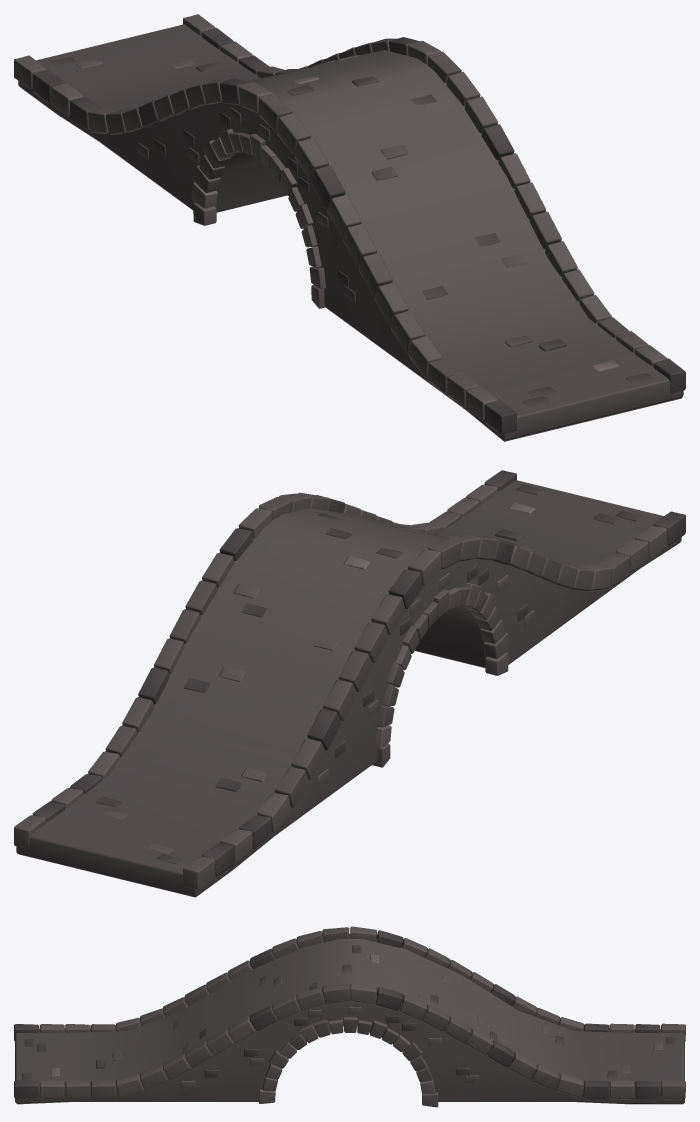
File: bridge.glb
3 renders of one model, top to bottom at view 1: azimuth 30°, elevation 25°; view 2: azimuth 150°, elevation 25°; view 3: azimuth 270°, elevation 25°, orthographic. The views are drawn at different scales.
Visible parts, largest first — view 1: Creative Trio Bridge 09; view 2: Creative Trio Bridge 09; view 3: Creative Trio Bridge 09.
Boxes of the visible parts, left/top/right/bottom form: Creative Trio Bridge 09: left=14, top=14, right=685, bottom=441; Creative Trio Bridge 09: left=14, top=470, right=685, bottom=897; Creative Trio Bridge 09: left=14, top=926, right=685, bottom=1107.
Bounding box in the file's own units: 8.68 × 7.38 × 38.1.
Materials: 1 (1 with a texture image).
